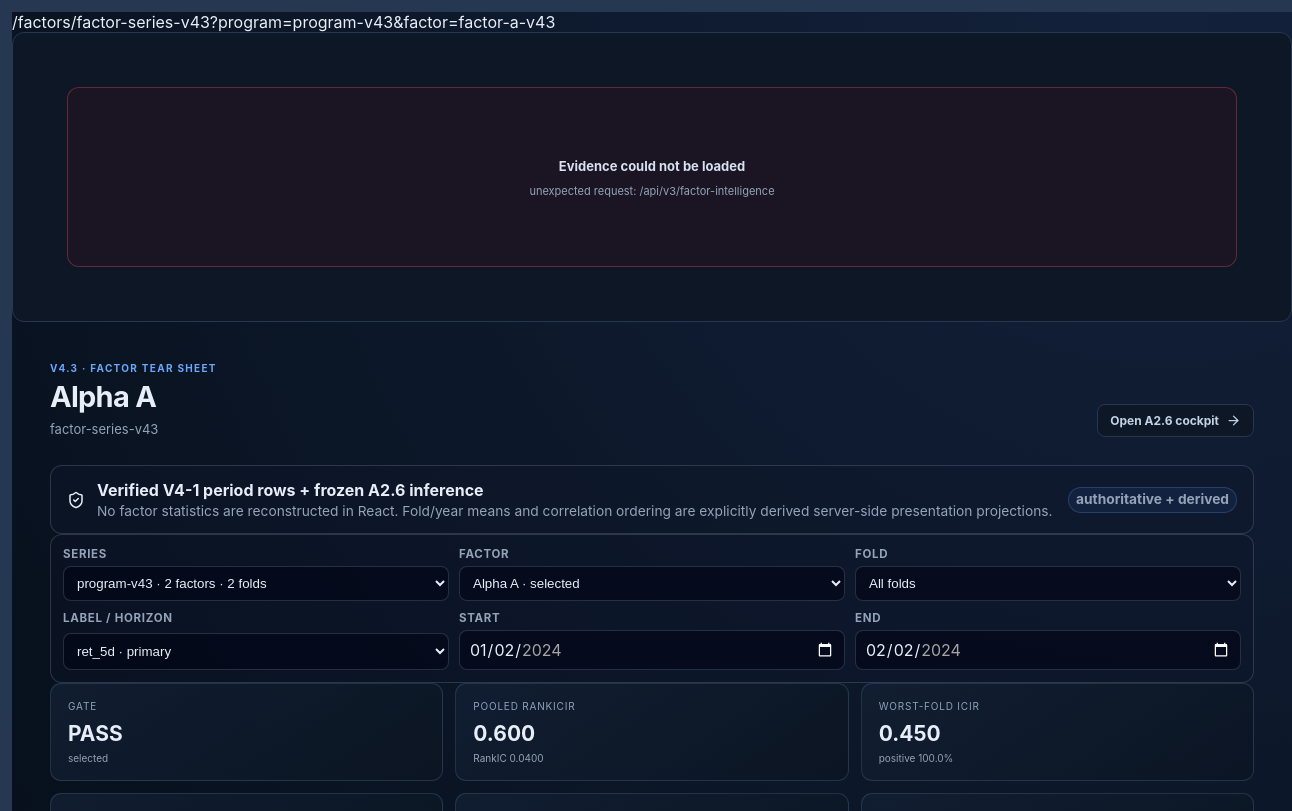
it: V4-3 Factor Tear Sheet › binds fold and date filters through WorkbenchContext and forwards them to bounded rows
Step 1. Select "wf-2" in the dropdown labelled "Fold" → (1048, 584), box [855,566,1241,602]
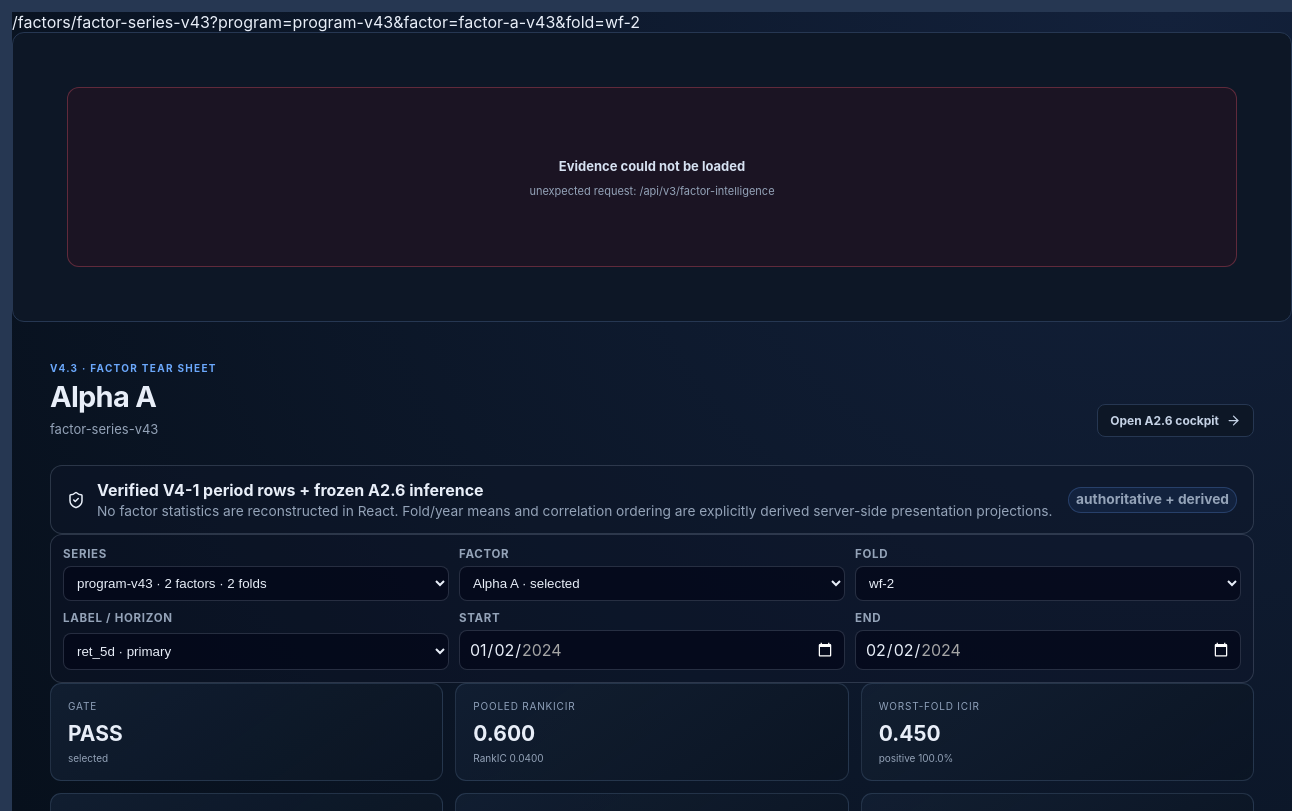
Expected: the text with test id "location" shows "fold=wf-2", [12,12,640,32]
Step 2. Type "2024-01-03" into the date field labelled "Start" → (652, 650), box [459,630,845,670]
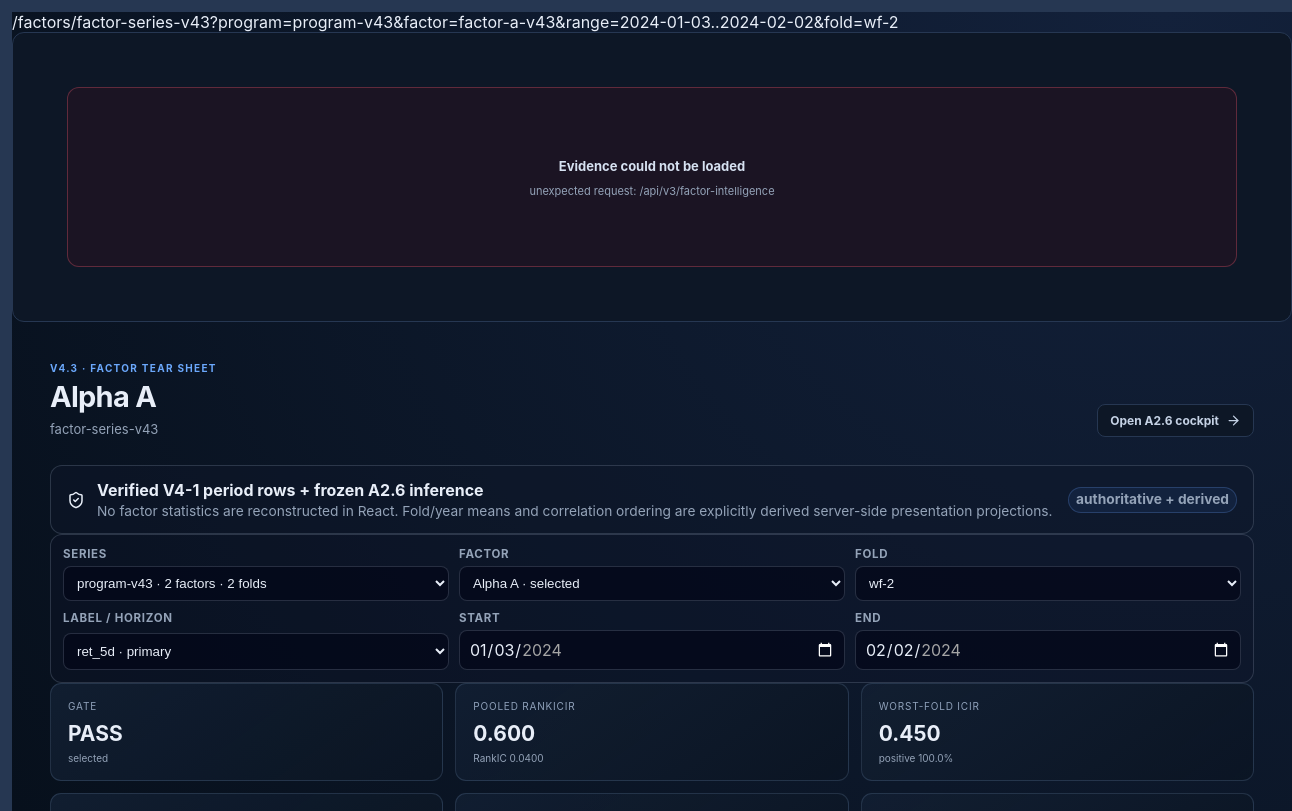
Expected: the text with test id "location" shows "range=2024-01-03..2024-02-02", [12,12,898,32]
